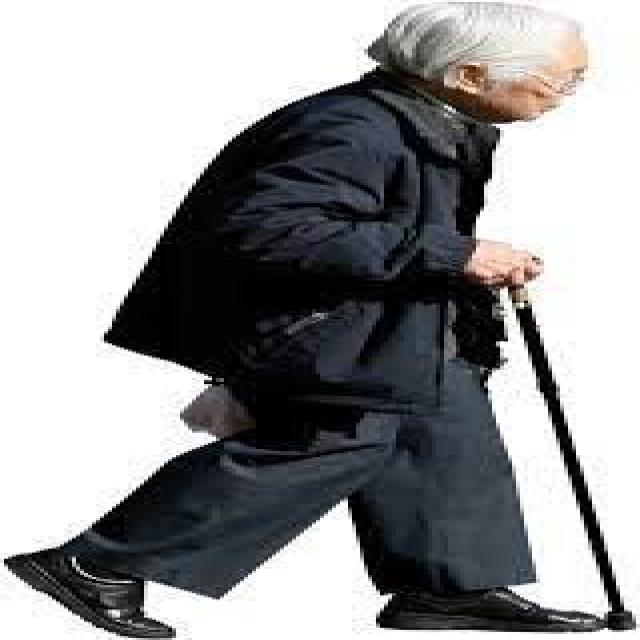idoso em pe: (9, 1, 640, 638)
